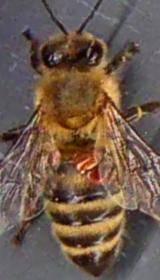varroa_mite: (72, 144, 100, 174)
